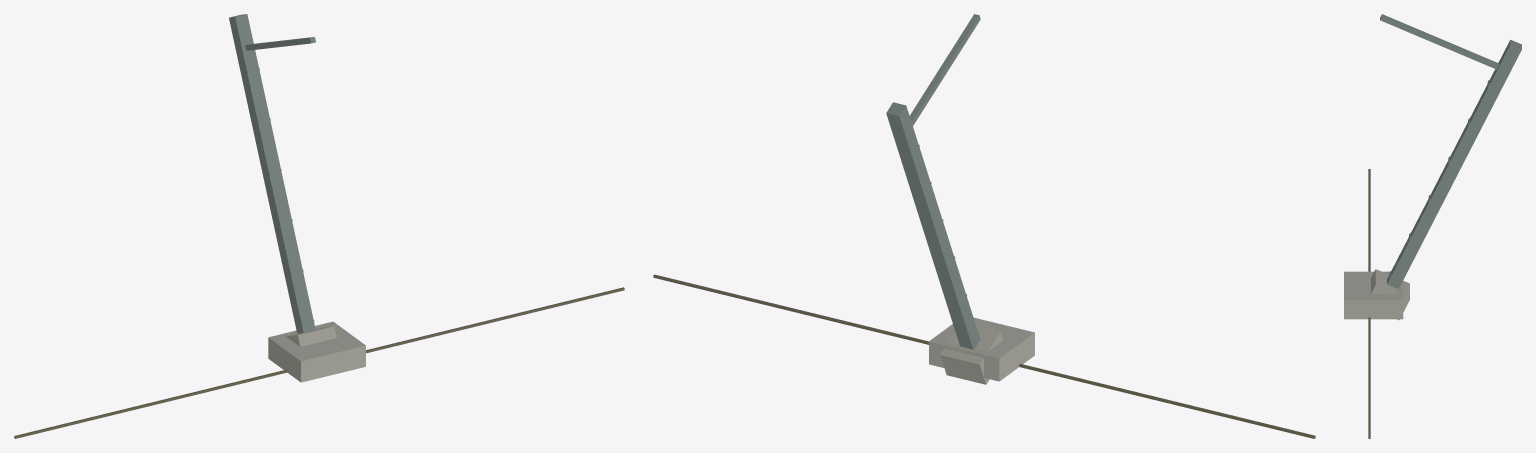
File: SM_CatenariaCaida_v2_Inclinado_LOD0.fbx
The picture shows the model from 3 angles, left to right: view 1: azimuth 30°, elevation 25°; view 2: azimuth 150°, elevation 25°; view 3: azimuth 270°, elevation 25°; orthographic projection. The views are drawn at different scales.
Visible parts, largest first — view 1: SM_aqui_paso_algo_v12_LOD0; view 2: SM_aqui_paso_algo_v12_LOD0; view 3: SM_aqui_paso_algo_v12_LOD0.
Boxes of the visible parts, left/top/right/bottom form: SM_aqui_paso_algo_v12_LOD0: left=14, top=14, right=624, bottom=438; SM_aqui_paso_algo_v12_LOD0: left=653, top=14, right=1315, bottom=438; SM_aqui_paso_algo_v12_LOD0: left=1344, top=14, right=1521, bottom=438.
Bounding box in the file's own units: 15 × 7.76 × 4.21.
